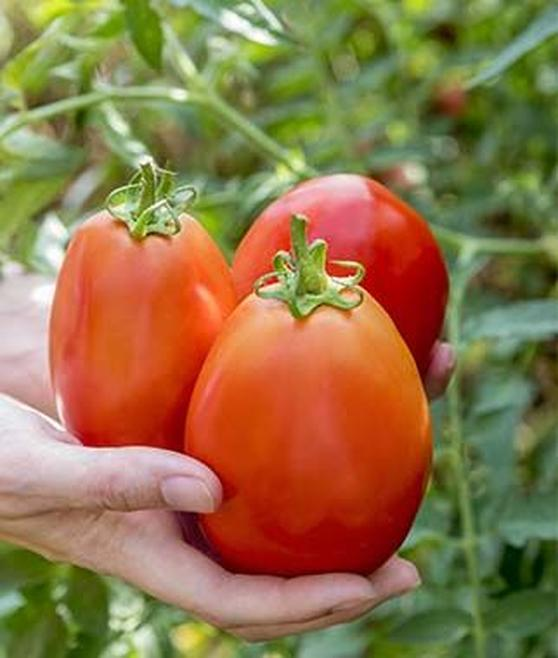tomato: (180, 267, 436, 576), (56, 199, 242, 458)
